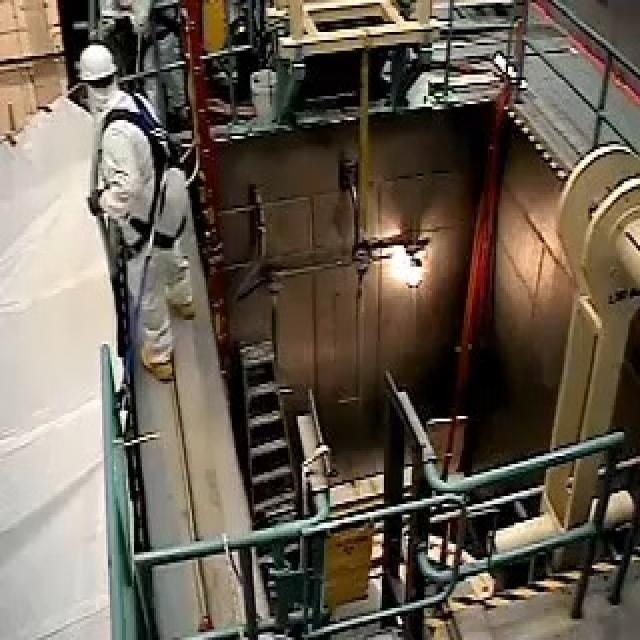Arnes_seguridad: (98, 99, 192, 256)
